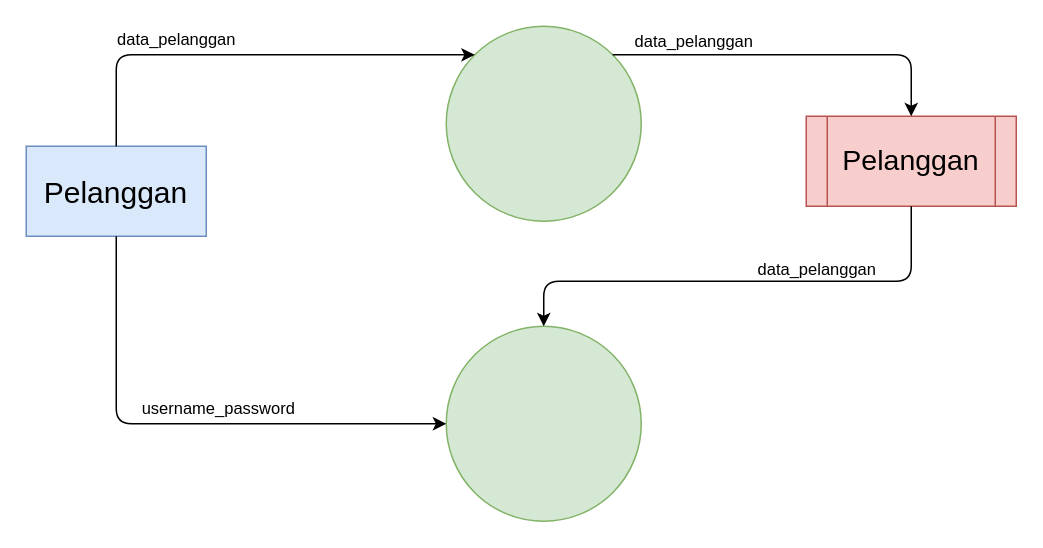
Image size: 1043x548. Some labels were removed from this diagram. The box of each missing label's shape, as (x1, y1, x2, y2) in pixels:
1.1 Pendaftaran Akun: (445, 25, 641, 221)
2.1 Login: (445, 325, 641, 521)
